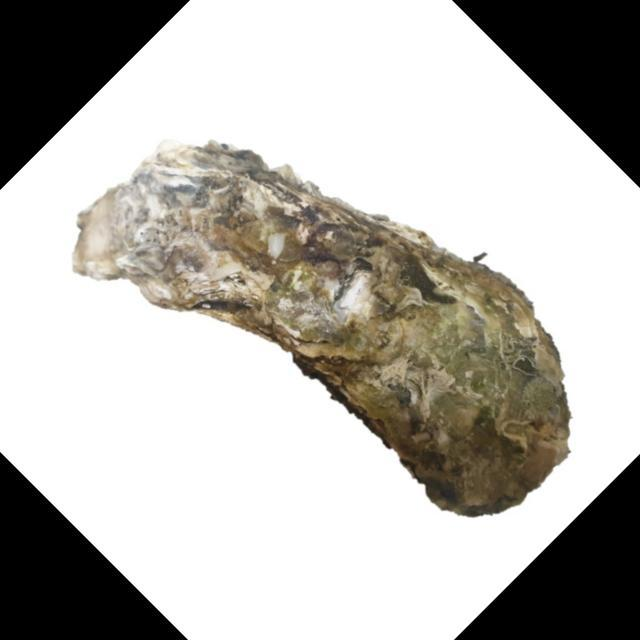Oyster- Indeterminate: (70, 140, 572, 520)
